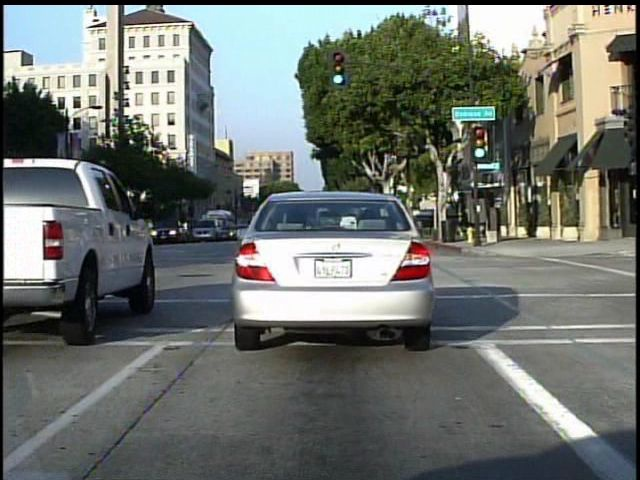person: (90, 206, 119, 253)
